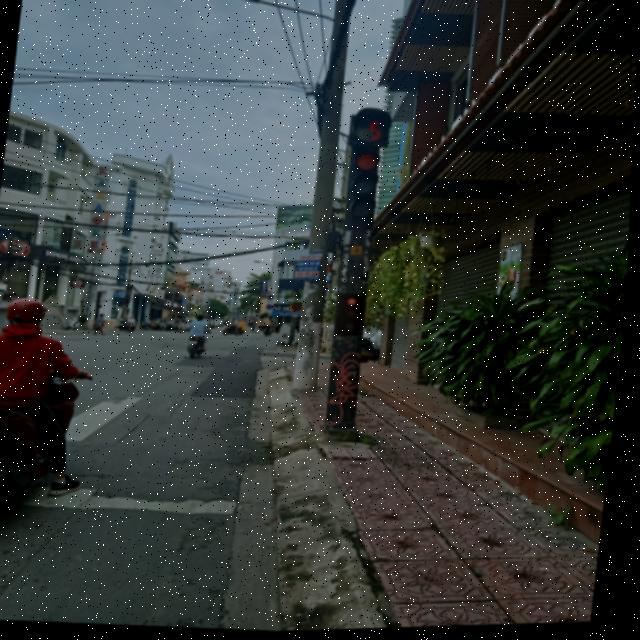Red: (345, 146, 388, 226), (339, 293, 371, 336)
